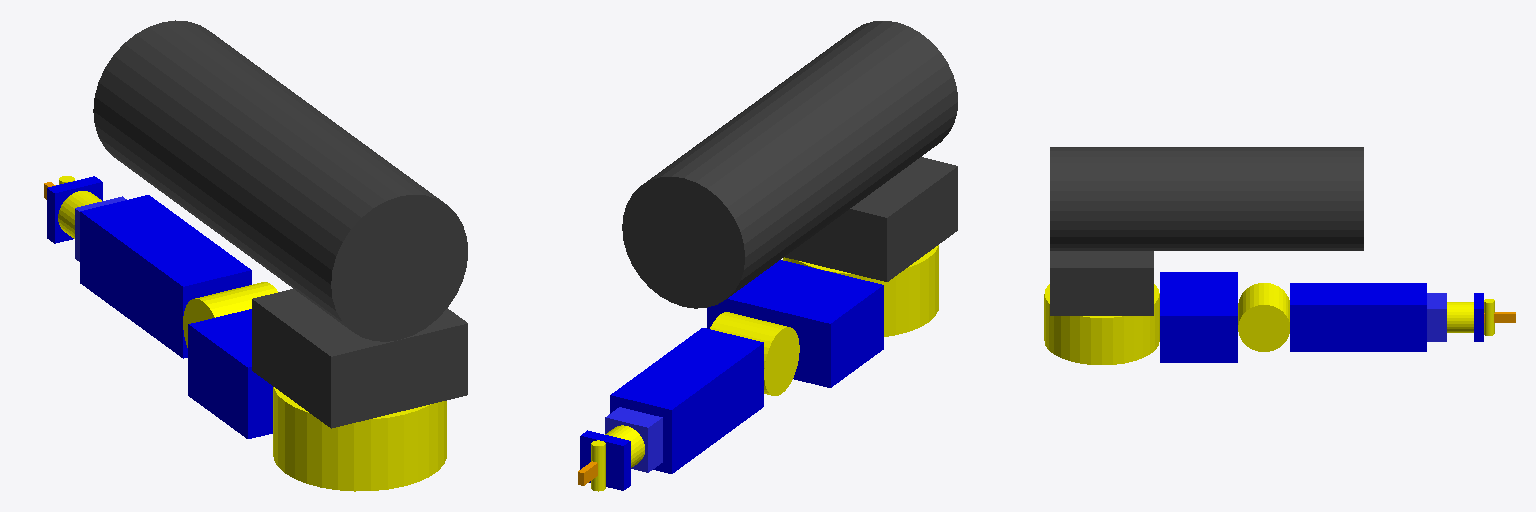
The robot description file, URDF, robot "third_arm":
<?xml version="1.0"?>

<robot name="third_arm">

  <!-- Third Arm has 5 joints, need many more links to make the model -->

  <link name="base_link">
    <visual>
      <origin xyz="0 0 0" rpy ="1.5708 0 0"/>
      <material name="Grey">
      <color rgba="0.3 0.3 0.3 1.0"/>
      </material>
      <geometry>
        <cylinder length="0.6" radius="0.1" />
      </geometry>
    </visual>
  </link>

  <link name="block_to_base">
    <visual>
		<origin  rpy ="0 1.5708  0"/>
      <material name="Gray">
       <color rgba="0.3 0.3 0.3 1.0"/>
      </material> 	
      <geometry>
        <box size="0.1 .2 .2"/>
      </geometry>
    </visual>
  </link>

  <link name="base_motor">
    <inertial>
      <origin  rpy ="0 0 0"/>
      <mass value="1"/>
      <inertia ixx="100"  ixy="0"  ixz="0" iyy="100" iyz="0" izz="100" />
    </inertial>
    <visual>
    <origin  rpy ="0 0  0"/>
      <material name="Yellow">
       <color rgba="1.0 1.0 0.0 1.0"/>
      </material>   
      <geometry>
        <cylinder length="0.1" radius="0.11"/>
      </geometry>
    </visual>
  </link>

  <link name="swivel_link">
    <visual>
    <origin  rpy ="0 0 0"/>
      <material name="Blue">
       <color rgba="0 0.0 1.0 1.0"/>
      </material>   
      <geometry>
        <box size="0.2 .15 .1"/>
      </geometry>
    </visual>
  </link>


  <link name="lift_motor">
    <inertial>
      <origin  rpy ="0 1.5708  0"/>
      <mass value="1"/>
      <inertia ixx="100"  ixy="0"  ixz="0" iyy="100" iyz="0" izz="100" />
    </inertial>
    <visual>
    <origin  rpy ="0 1.5708 0"/>
      <material name="Yellow">
       <color rgba="1.0 1.0 0.0 1.0"/>
      </material>   
      <geometry>
        <cylinder length="0.1" radius="0.05"/>
      </geometry>
    </visual>
  </link>


  <link name="extend_link1">
    <visual>
    <origin  rpy ="0 0 0"/>
      <material name="Blue">
       <color rgba="0 0.0 1.0 0.1"/>
      </material>   
      <geometry>
        <box size="0.1 .26 .1"/>
      </geometry>
    </visual>
  </link>


  <link name="extend_link2">
    <visual>
    <origin  rpy ="0 0 0"/>
      <material name="Blue2">
       <color rgba="0.2 0.2 1.0 1.0"/>
      </material>   
      <geometry>
        <box size="0.07 .20 .07"/>
      </geometry>
    </visual>
  </link>


  <link name="wrist_motor">
    <inertial>
      <origin  rpy =" 1.5708 0  0"/>
      <mass value="1"/>
      <inertia ixx="100"  ixy="0"  ixz="0" iyy="100" iyz="0" izz="100" />
    </inertial>
    <visual>
    <origin  rpy ="1.5708 0 0"/>
      <material name="Yellow">
       <color rgba="1.0 1.0 0.0 1.0"/>
      </material>   
      <geometry>
        <cylinder length="0.05" radius="0.03"/>
      </geometry>
    </visual>
  </link>


  <link name="gripper_motor">
    <inertial>
      <origin  rpy =" 1.5708 0  0"/>
      <mass value="1"/>
      <inertia ixx="100"  ixy="0"  ixz="0" iyy="100" iyz="0" izz="100" />
    </inertial>
    <visual>
    <origin  rpy ="0 0 0"/>
      <material name="Yellow">
       <color rgba="1.0 1.0 0.0 1.0"/>
      </material>   
      <geometry>
        <cylinder length="0.07" radius="0.01"/>
      </geometry>
    </visual>
  </link>


  <link name="wrist_plate">
    <visual>
    <origin  rpy ="0 0 0"/>
      <material name="Blue">
       <color rgba="0.0 0.0 1.0 1.0"/>
      </material>   
      <geometry>
        <box size="0.07 .02 .07"/>
      </geometry>
    </visual>
  </link>


  <link name="finger1">
    <inertial>
      <origin  rpy =" 0 0  0"/>
      <mass value="1"/>
      <inertia ixx="100"  ixy="0"  ixz="0" iyy="100" iyz="0" izz="100" />
    </inertial>   
    <visual>
    <origin  rpy ="0 0 0"/>
      <material name="Orange1">
       <color rgba="1.0 0.65 0.0 1.0"/>
      </material>   
      <geometry>
        <box size="0.01 .1 .02"/>
      </geometry>
    </visual>
  </link>


  <link name="finger2">
    <inertial>
      <origin  rpy =" 0 0  0"/>
      <mass value="1"/>
      <inertia ixx="100"  ixy="0"  ixz="0" iyy="100" iyz="0" izz="100" />
    </inertial>
    <visual>
    <origin  rpy ="0 0 0"/>
      <material name="Orange2">
       <color rgba="1.0 0.55 0.0 1.0"/>
      </material>   
      <geometry>
        <box size="0.01 .1 .02"/>
      </geometry>
    </visual>
  </link>



  <joint name="brace_block_link" type="fixed">
  	<origin xyz="0 -0.2 -0.15" rpy="0 0 0" />
    <parent link="base_link"/>
    <child link="block_to_base"/>
  </joint>




  <joint name="base_to_motor1" type="revolute">
  	<axis xyz="0 0 1"/>
  	<limit lower="-1.5708" upper="1.5708" effort="10" velocity="0.314"/>
  	<origin xyz="0 0 -0.1" rpy="0 0 0" />
    <parent link="block_to_base"/>
    <child link="base_motor"/>
  </joint>


  <joint name="motor1_to_swivel_link" type="fixed">
  	<origin xyz="0 0.185 0" rpy="0 0 0" />
    <parent link="base_motor"/>
    <child link="swivel_link"/>
  </joint>


  <joint name="swivel_to_motor2" type="revolute">
  	<axis xyz="1 0 0"/>
  	<limit lower="-1.5708" upper="1.5708" effort="10" velocity="0.314"/>
  	<origin xyz="0 0.125 0" rpy="0 0 0" />
    <parent link="swivel_link"/>
    <child link="lift_motor"/>
  </joint>


  <joint name="motor2_to_extend1" type="fixed">
  	<origin xyz="0 0.18 0" rpy="0 0 0" />
    <parent link="lift_motor"/>
    <child link="extend_link1"/>
  </joint>


  <joint name="extension" type="prismatic">
  	<axis xyz="0 1 0"/>
  	<limit lower="0" upper="0.15" effort="10" velocity="5"/>
  	<origin xyz="0 0.07 0" rpy="0 0 0" />
    <parent link="extend_link1"/>
    <child link="extend_link2"/>
  </joint>




  <joint name="wrist_motor_to_extension" type="revolute">
  	<axis xyz="0 1 0"/>
  	<limit lower="-1.5708" upper="1.5708" effort="5" velocity="0.5"/>
  	<origin xyz="0 0.125 0" rpy="0 0 0" />
    <parent link="extend_link2"/>
    <child link="wrist_motor"/>
  </joint>


  <joint name="wrist_motor_to_plate" type="fixed">
  	<origin xyz="0 0.035 0" rpy="0 0 0" />
    <parent link="wrist_motor"/>
    <child link="wrist_plate"/>
  </joint>



  <joint name="gripper_motor_to_plate" type="fixed">
  	<origin xyz="0 0.02 0" rpy="0 0 0" />
    <parent link="wrist_plate"/>
    <child link="gripper_motor"/>
  </joint>



  <joint name="finger1_to_gripper_motor" type="revolute">
  	<axis xyz="0 0 1"/>
  	<limit lower="0" upper="1" effort="5" velocity="0.5"/>
  	<origin xyz="0 0 0" rpy="0 0 0" />
    <parent link="gripper_motor"/>
    <child link="finger1"/>
  </joint>



  <joint name="finger2_to_gripper_motor" type="revolute">
  	<axis xyz="0 0 1"/>
  	<limit lower="-1" upper="0" effort="5" velocity="0.5"/>
  	<origin xyz="0 0 0" rpy="0 0 0" />
  	<mimic joint="finger1_to_gripper_motor" multiplier="-1" />
    <parent link="gripper_motor"/>
    <child link="finger2"/>
  </joint>

</robot>

--- Render facts (derived) ---
3 views of the same robot in one strip: view 1: azimuth 30°, elevation 25°; view 2: azimuth 150°, elevation 25°; view 3: azimuth 270°, elevation 25° (orthographic).
Robot: third_arm — 12 links, 11 joints (5 revolute, 1 prismatic, 5 fixed); root link base_link; default pose: all joints at 0.
Visible links, largest first — view 1: base_link, block_to_base, extend_link1, base_motor, swivel_link, lift_motor, wrist_plate, wrist_motor; view 2: base_link, extend_link1, swivel_link, block_to_base, base_motor, lift_motor, extend_link2, wrist_plate, wrist_motor, gripper_motor; view 3: base_link, extend_link1, swivel_link, block_to_base, base_motor, lift_motor, extend_link2, wrist_motor.
Link boxes in pixels (bbox=[...]): base_link: bbox=[93, 20, 467, 341]; block_to_base: bbox=[252, 289, 467, 428]; extend_link1: bbox=[80, 195, 251, 358]; base_motor: bbox=[273, 387, 446, 491]; swivel_link: bbox=[188, 309, 272, 438]; lift_motor: bbox=[183, 282, 277, 347]; wrist_plate: bbox=[47, 176, 102, 243]; wrist_motor: bbox=[58, 191, 101, 238]; base_link: bbox=[622, 21, 957, 308]; extend_link1: bbox=[610, 328, 763, 473]; swivel_link: bbox=[707, 260, 883, 387]; block_to_base: bbox=[785, 157, 957, 281]; base_motor: bbox=[783, 245, 938, 336]; lift_motor: bbox=[710, 312, 799, 395]; extend_link2: bbox=[605, 407, 662, 472]; wrist_plate: bbox=[580, 430, 630, 490]; wrist_motor: bbox=[605, 425, 644, 467]; gripper_motor: bbox=[591, 440, 605, 491]; base_link: bbox=[1050, 147, 1363, 250]; extend_link1: bbox=[1290, 283, 1426, 351]; swivel_link: bbox=[1160, 272, 1237, 362]; block_to_base: bbox=[1050, 251, 1153, 315]; base_motor: bbox=[1044, 284, 1159, 364]; lift_motor: bbox=[1238, 283, 1289, 351]; extend_link2: bbox=[1427, 293, 1446, 341]; wrist_motor: bbox=[1447, 302, 1473, 332].
Bounding box of the posed robot: 0.22 × 0.9 × 0.4 m (x, y, z).
Geometry: primitives only (box / cylinder / sphere), no mesh files.